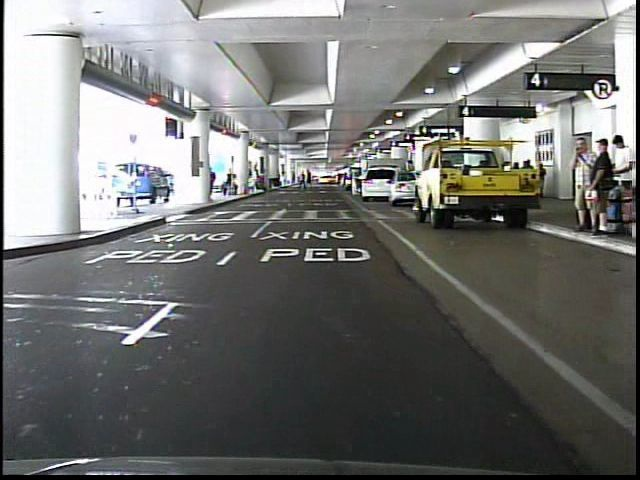person: (564, 136, 592, 233)
